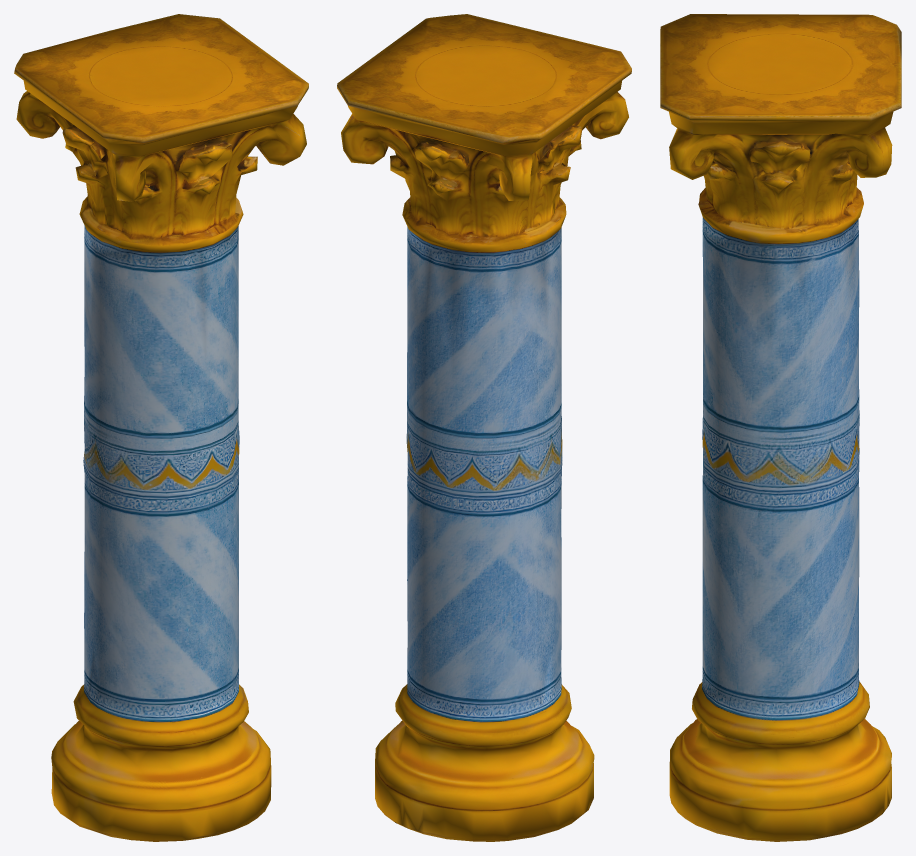
Rendered from City_pillar.glb.
The picture shows the model from 3 angles, left to right: view 1: azimuth 30°, elevation 25°; view 2: azimuth 150°, elevation 25°; view 3: azimuth 270°, elevation 25°; orthographic projection.
Size of the model in its own units: 0.5989 by 2 by 0.5994.
Materials: 1 (1 with a texture image).
